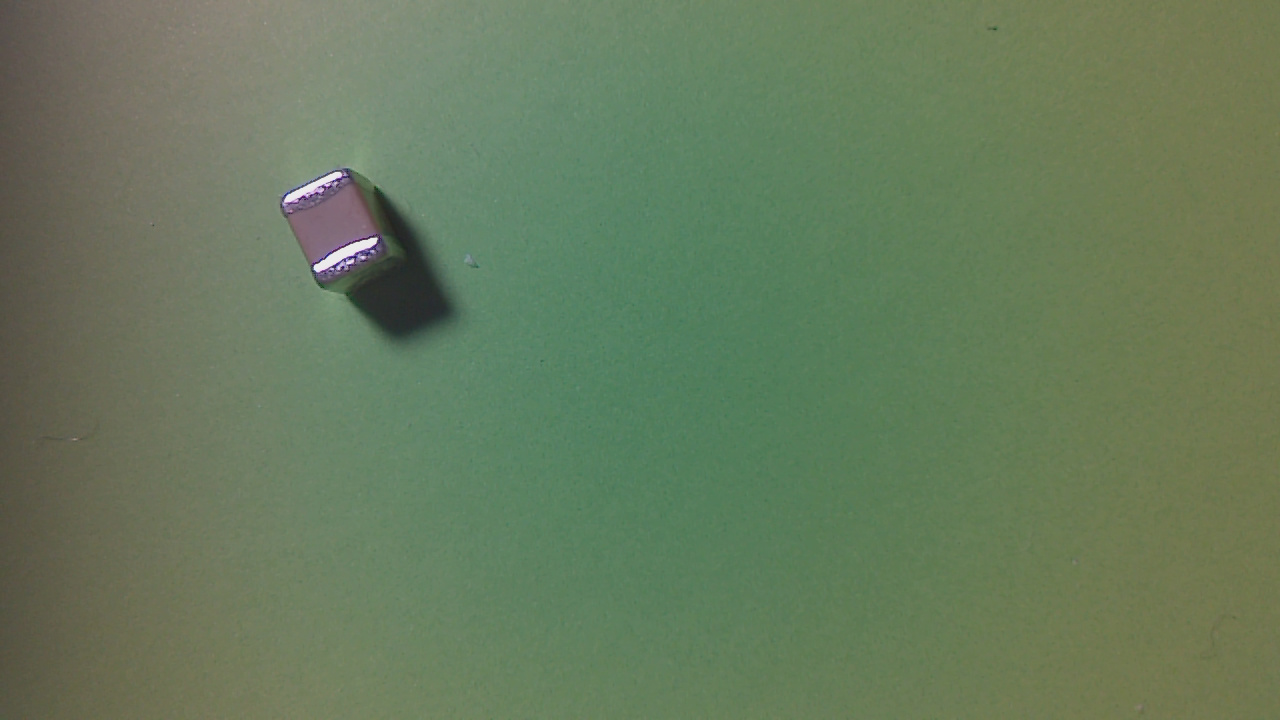Condensator: (280, 172, 399, 295)
